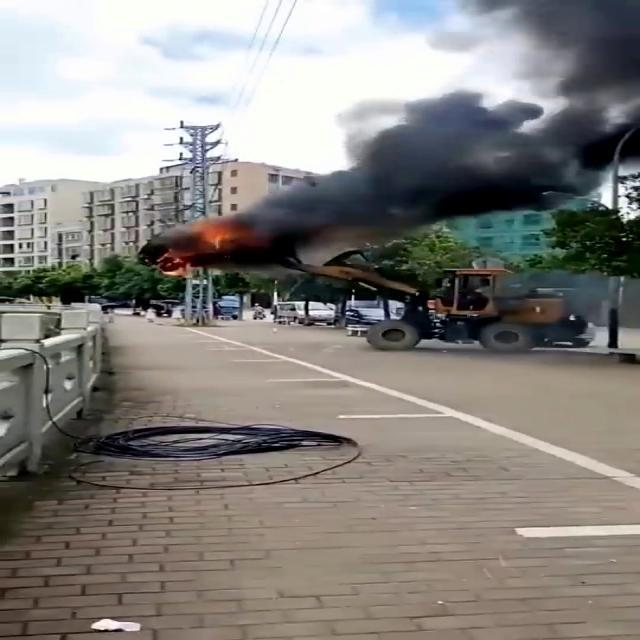Fire: (176, 224, 237, 254)
Smoke: (228, 65, 638, 266)
